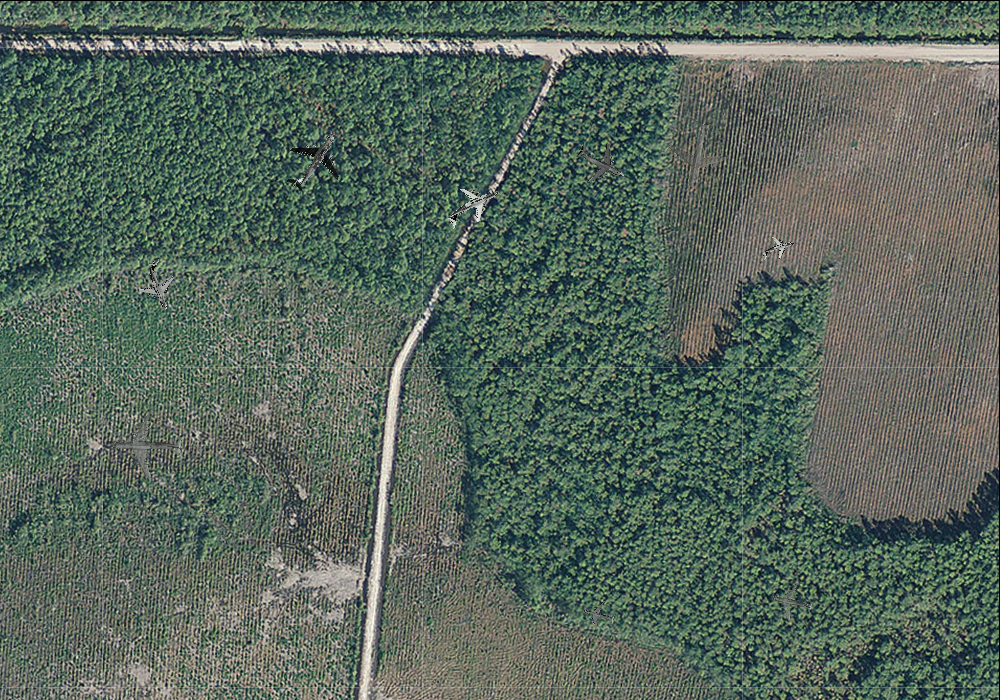plane: (268, 113, 359, 205), (659, 113, 736, 193), (108, 411, 183, 481), (436, 172, 510, 241), (567, 129, 635, 195), (128, 253, 188, 316), (766, 578, 817, 627), (579, 596, 618, 634), (758, 230, 798, 267)
